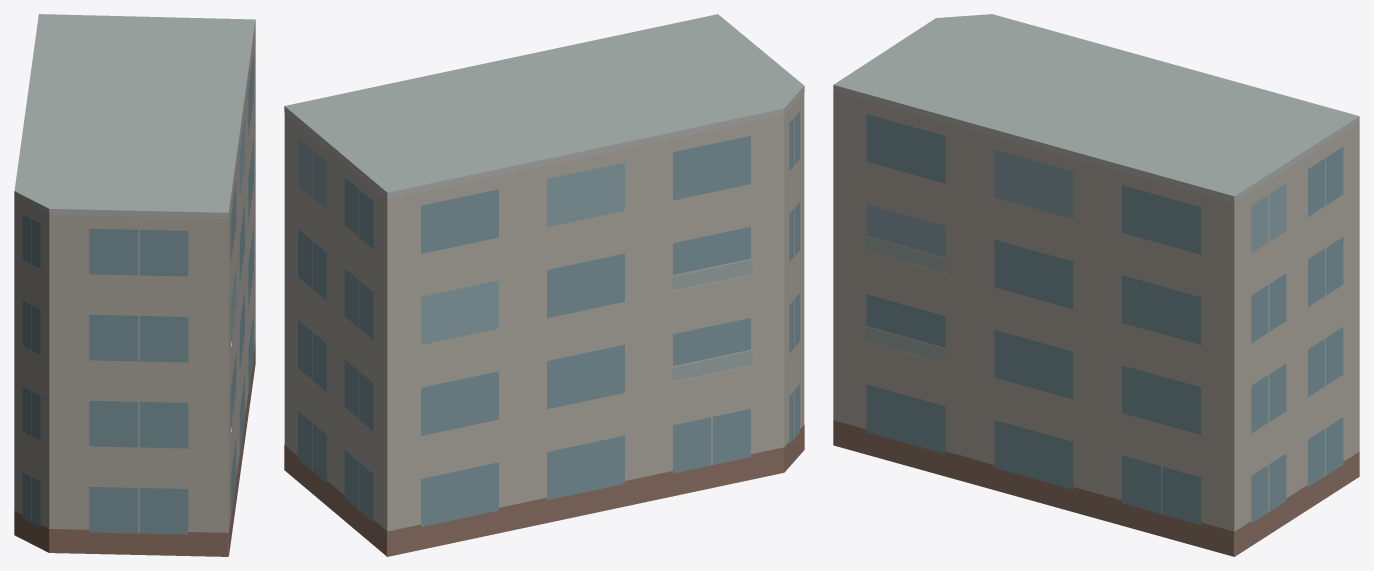
Rendered from survey-upis-32703844.glb.
3 renders of one model, left to right at view 1: azimuth 30°, elevation 25°; view 2: azimuth 150°, elevation 25°; view 3: azimuth 270°, elevation 25°, orthographic. The views are drawn at different scales.
Visible parts, largest first — view 1: survey-upis-32703844.tmp; view 2: survey-upis-32703844.tmp; view 3: survey-upis-32703844.tmp.
Boxes of the visible parts, bbox=[...] form: survey-upis-32703844.tmp: bbox=[14, 14, 255, 556]; survey-upis-32703844.tmp: bbox=[284, 14, 804, 556]; survey-upis-32703844.tmp: bbox=[833, 14, 1359, 556].
Bounding box in the file's own units: 14.6 × 13.45 × 17.8.
